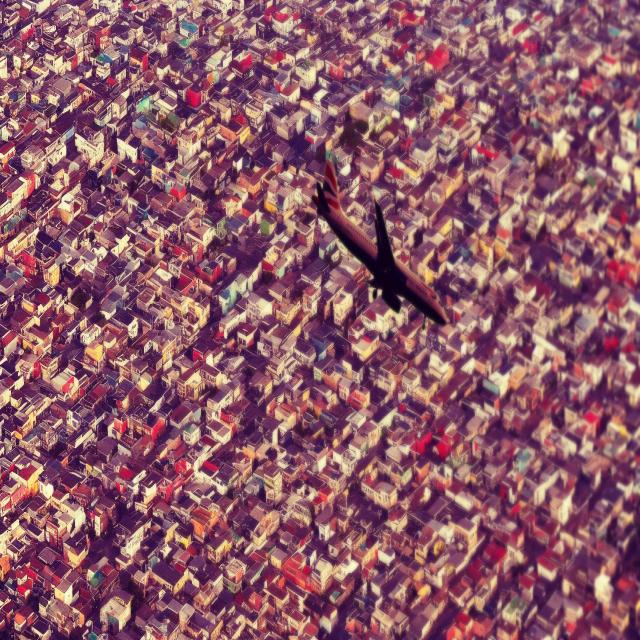airplane: (311, 157, 450, 327)
